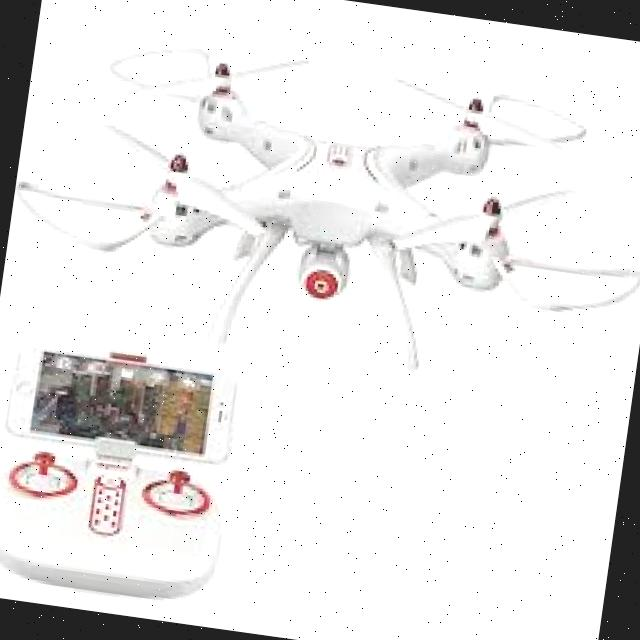drone: (0, 5, 640, 404)
